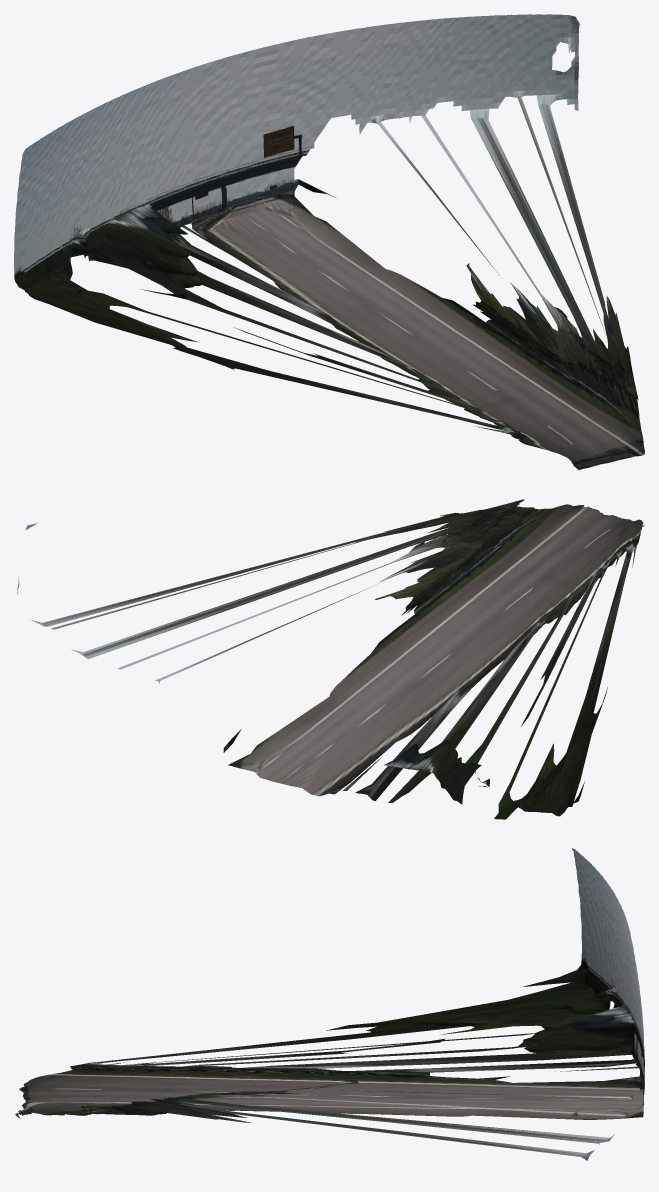
3 renders of one model, top to bottom at view 1: azimuth 30°, elevation 25°; view 2: azimuth 150°, elevation 25°; view 3: azimuth 270°, elevation 25°, orthographic. The views are drawn at different scales.
Visible parts, largest first — view 1: defaultobject; view 2: defaultobject; view 3: defaultobject.
Part boxes in pixels (bbox=[...]): defaultobject: bbox=[14, 14, 644, 470]; defaultobject: bbox=[17, 499, 644, 819]; defaultobject: bbox=[15, 848, 644, 1160].
Size of the model in its own units: 41.11 by 12.39 by 44.78.
1 material, 1 textured.
